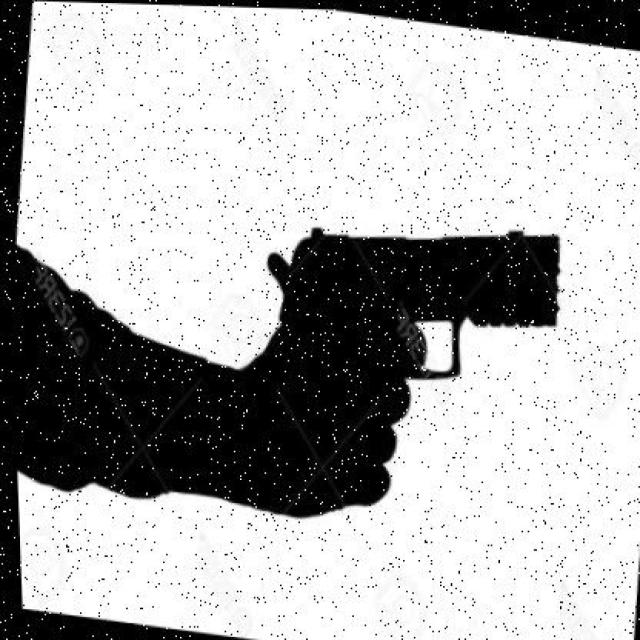weapon: (268, 226, 561, 435)
